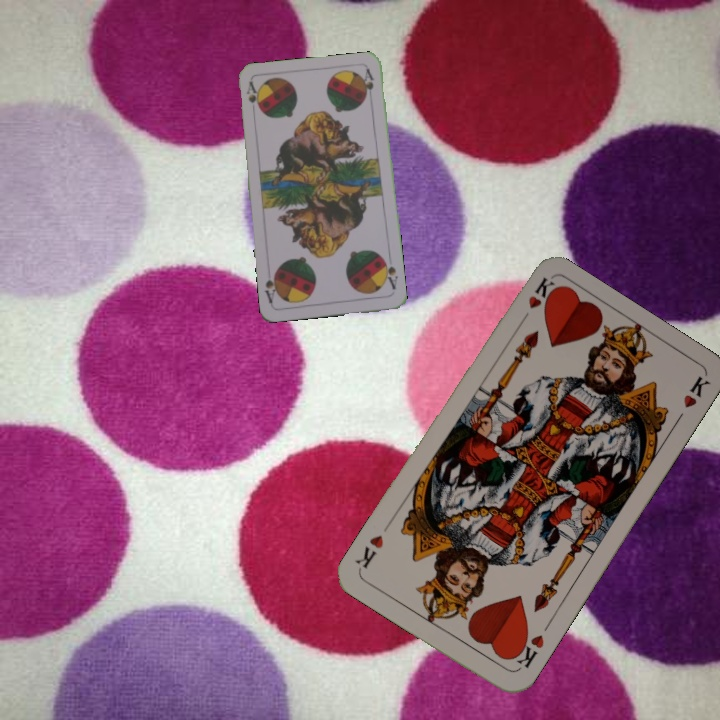HK: (515, 274, 557, 329), (507, 629, 547, 671)
SA: (242, 78, 263, 118), (379, 254, 401, 292)
